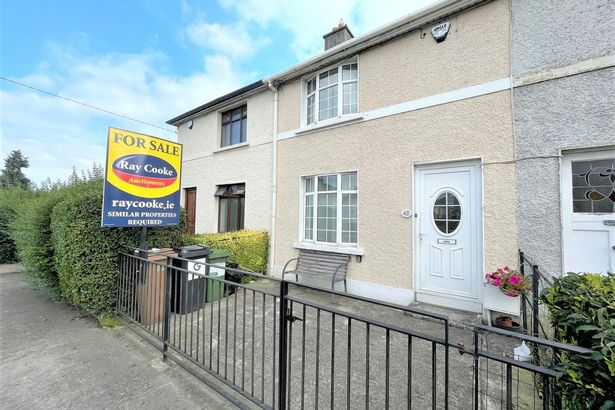property sign: (92, 116, 186, 234)
